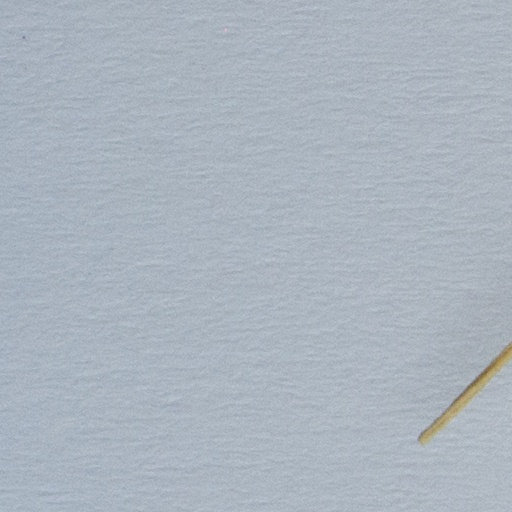Peel-poly: (428, 339, 511, 437)
